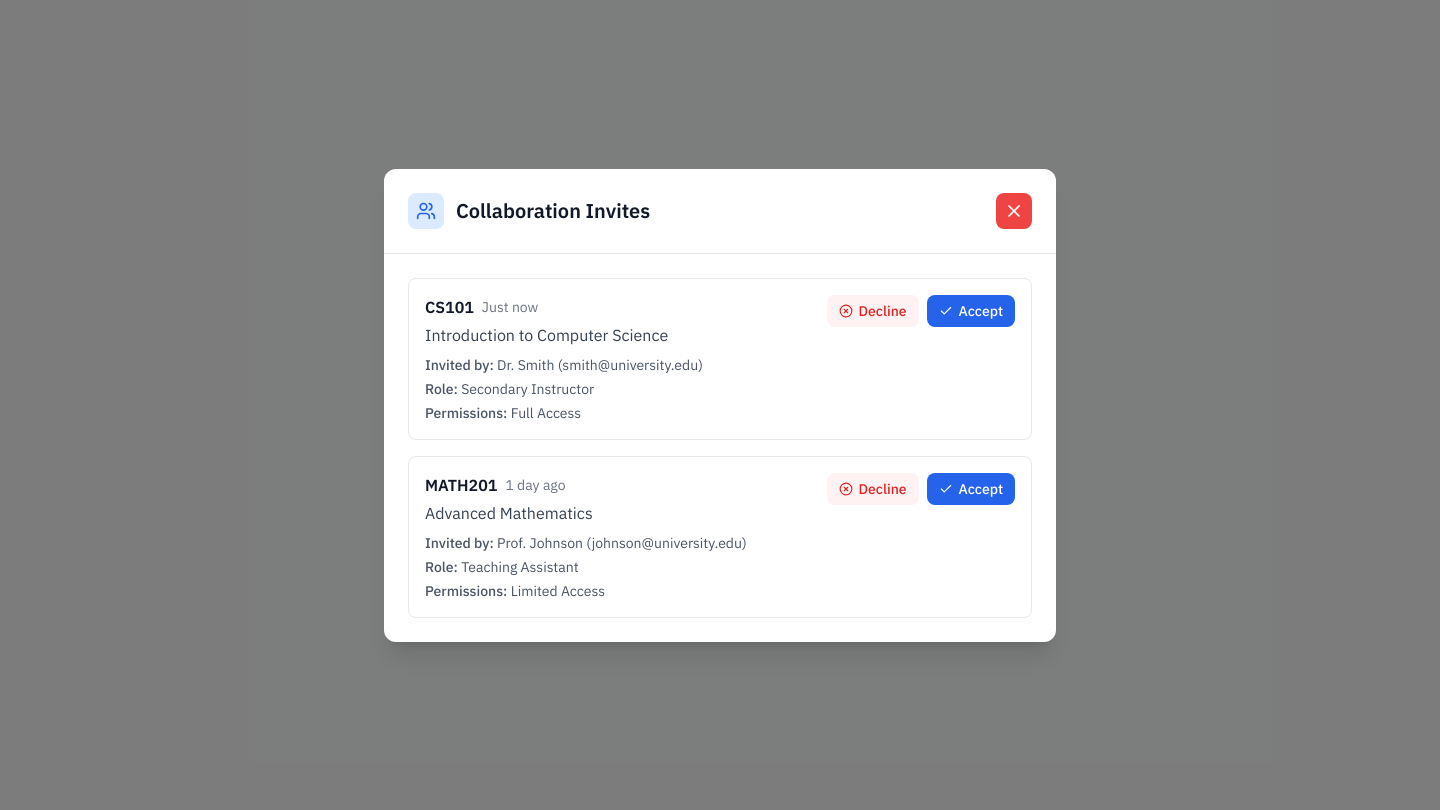
Test case: CollaborationInvitesModal › shows loading state when processing an invite
The image size is (1440, 810).
// Click the button
Click the button "Accept" in the row of "Just now".
click(971, 310)  # box [927,294,1015,326]
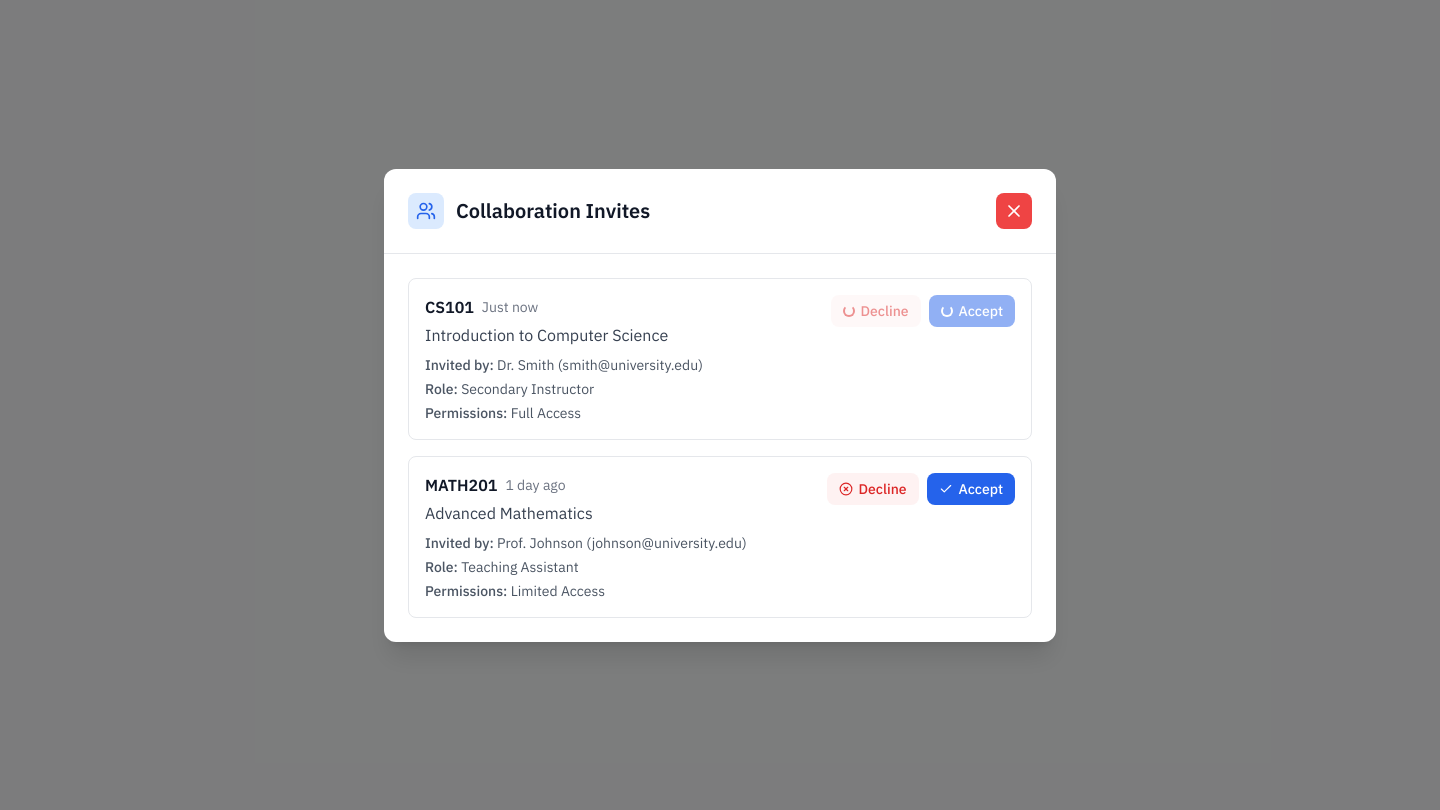
Now the button "Accept" in the row of "Just now" is disabled, box [929,294,1015,326]
Now the button "Decline" in the row of "Just now" is disabled, box [830,294,920,326]
Now the 2nd element with class "animate-spin" is shown, box [941,304,953,316]
